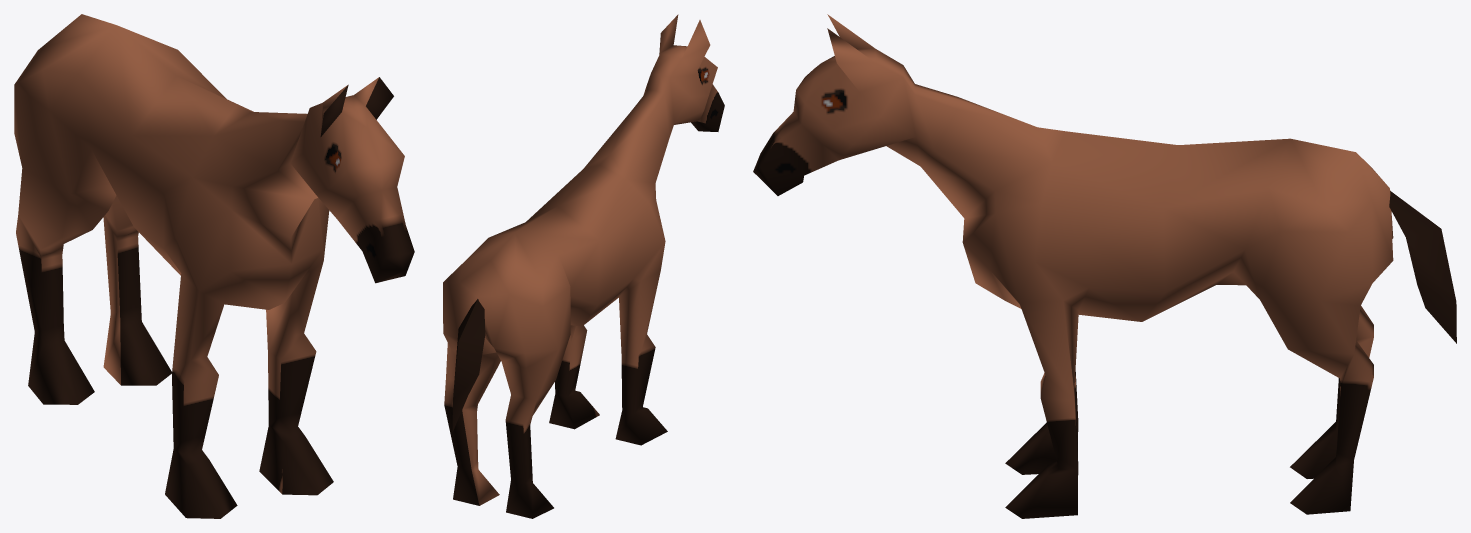
File: HorseUV.fbx
The picture shows the model from 3 angles, left to right: view 1: azimuth 30°, elevation 25°; view 2: azimuth 150°, elevation 25°; view 3: azimuth 270°, elevation 25°; orthographic projection. The views are drawn at different scales.
Visible parts, largest first — view 1: Hotrs; view 2: Hotrs, Tail; view 3: Hotrs, Tail.
Part boxes in pixels (box(x1,y1,x2,y2)): Hotrs: box(14, 14, 414, 518); Hotrs: box(443, 14, 724, 518); Tail: box(452, 299, 485, 431); Hotrs: box(753, 14, 1393, 518); Tail: box(1389, 191, 1456, 343).
Size of the model in its own units: 55.44 by 168 by 230.
Materials: 1 (1 with a texture image).
